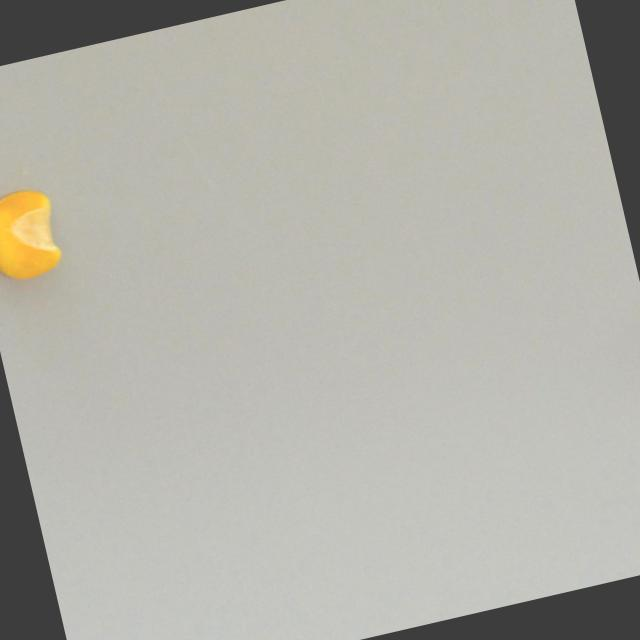no_canjicado: (0, 178, 74, 290)
